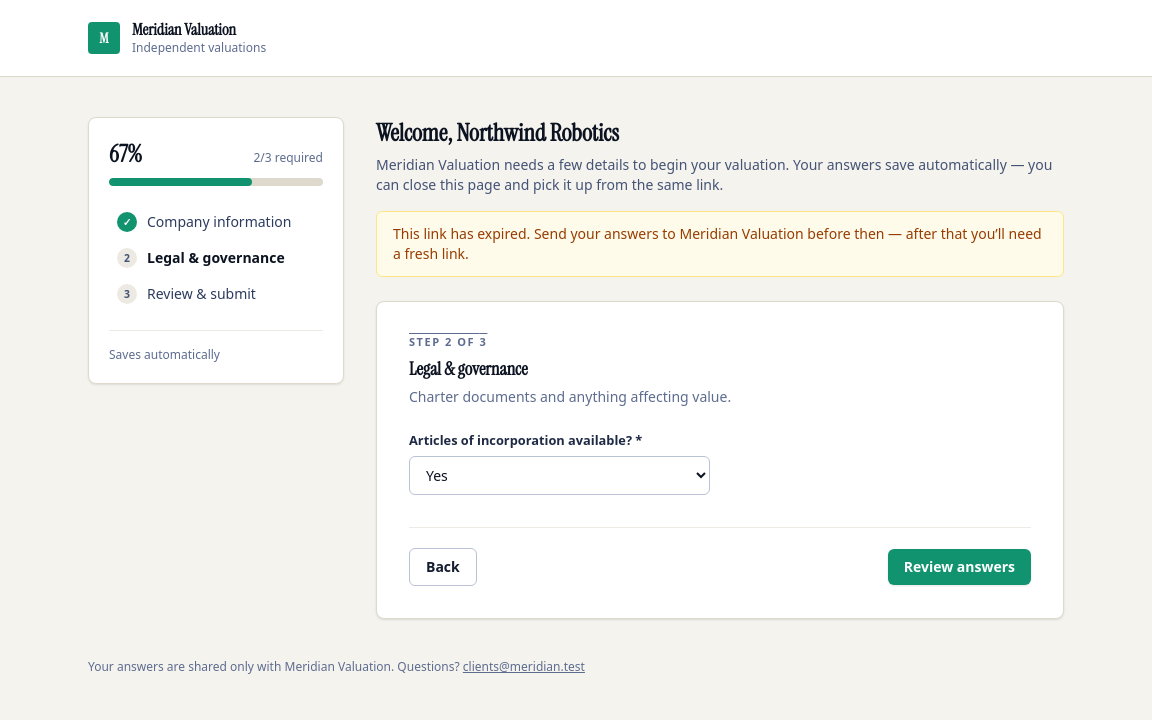
it: ClientIntakePage › shows a review of every answer before submitting, and marks the gaps
Expected: the heading "Welcome, Northwind Robotics" is shown, x1=376 y1=117 x2=619 y2=148
Click the button "3 Review & submit": (216, 294) x1=109 y1=278 x2=323 y2=310
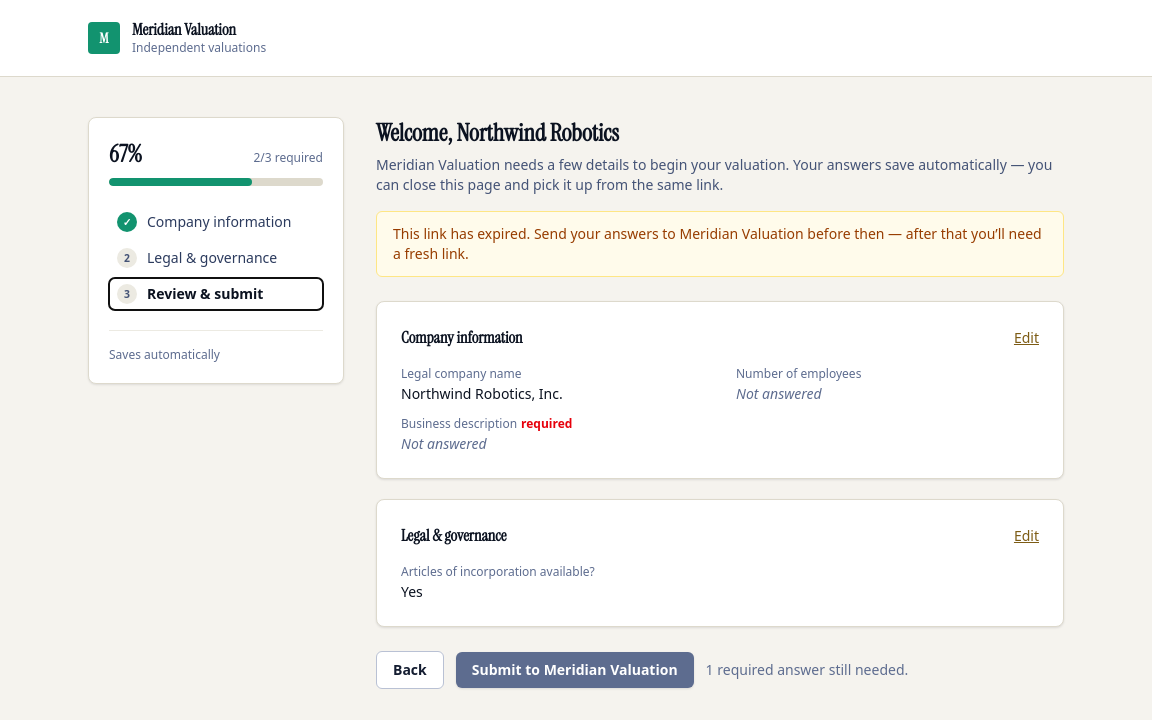
Now the text "Northwind Robotics, Inc." is shown, box x1=401 y1=384 x2=563 y2=403
Now the text "Yes" is shown, box x1=401 y1=582 x2=423 y2=601
Now the text "required" is shown, box x1=521 y1=415 x2=572 y2=432
